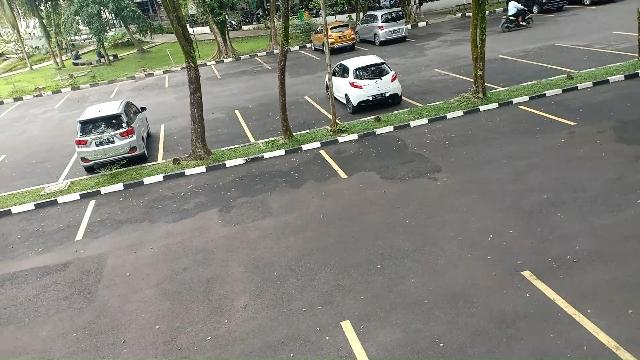empty: (161, 109, 245, 153), (243, 94, 325, 136), (1, 146, 72, 190), (412, 66, 474, 106), (534, 43, 612, 70), (486, 56, 548, 88), (112, 74, 168, 98), (166, 62, 217, 86), (62, 82, 116, 104), (218, 54, 264, 78), (264, 48, 308, 70)
occupied: (72, 118, 164, 172), (322, 66, 410, 121), (357, 15, 411, 49), (306, 28, 356, 58)
